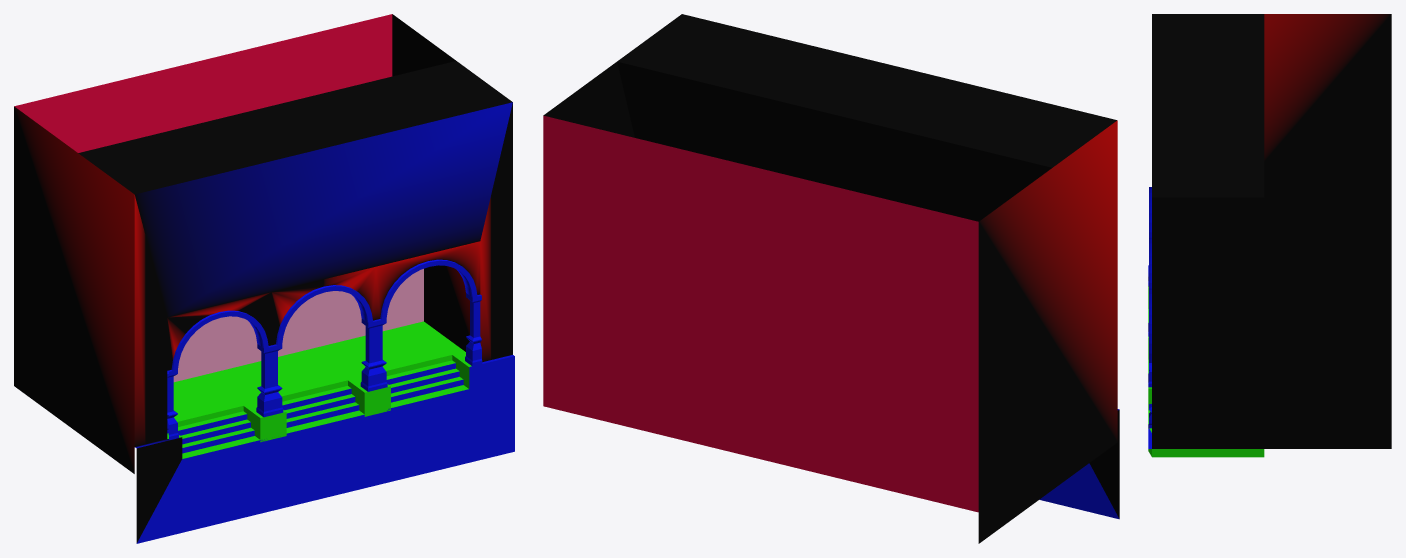
Rendered from HouseIceCream_collisionSetup.fbx.
3 renders of one model, left to right at view 1: azimuth 30°, elevation 25°; view 2: azimuth 150°, elevation 25°; view 3: azimuth 270°, elevation 25°, orthographic. The views are drawn at different scales.
Visible parts, largest first — view 1: collisionCube.349, collisionCube.347, collisionCube.350, collisionCube.373, collisionCube.348, collisionCube.363, collisionCube.375, collisionCube.374, collisionConcave.004, collisionConcave.003, collisionConcave.006, collisionConcave (+16 smaller); view 2: collisionCube.350, collisionCube.349, collisionCube.347, collisionCube.348, collisionCube.373, collisionCube.375; view 3: collisionCube.348, collisionCube.347, collisionCube.349, collisionCube.379.
Boxes of the visible parts, x1,y1,x2,y2 form: collisionCube.349: [78, 61, 512, 317]; collisionCube.347: [14, 106, 167, 473]; collisionCube.350: [14, 14, 423, 382]; collisionCube.373: [136, 385, 514, 543]; collisionCube.348: [392, 14, 512, 361]; collisionCube.363: [173, 321, 452, 426]; collisionCube.375: [135, 437, 182, 542]; collisionCube.374: [469, 355, 514, 451]; collisionConcave.004: [271, 279, 323, 345]; collisionConcave.003: [167, 305, 219, 370]; collisionConcave.006: [376, 254, 428, 319]; collisionConcave: [428, 241, 480, 294]; collisionCube.350: [543, 115, 978, 512]; collisionCube.349: [617, 14, 1116, 221]; collisionCube.347: [978, 120, 1117, 543]; collisionCube.348: [543, 62, 634, 137]; collisionCube.373: [1039, 463, 1119, 519]; collisionCube.375: [1089, 409, 1119, 518]; collisionCube.348: [1152, 197, 1391, 448]; collisionCube.347: [1264, 14, 1391, 197]; collisionCube.349: [1152, 14, 1264, 197]; collisionCube.379: [1148, 428, 1264, 457].
Size of the model in its own units: 1450 by 1275 by 812.
